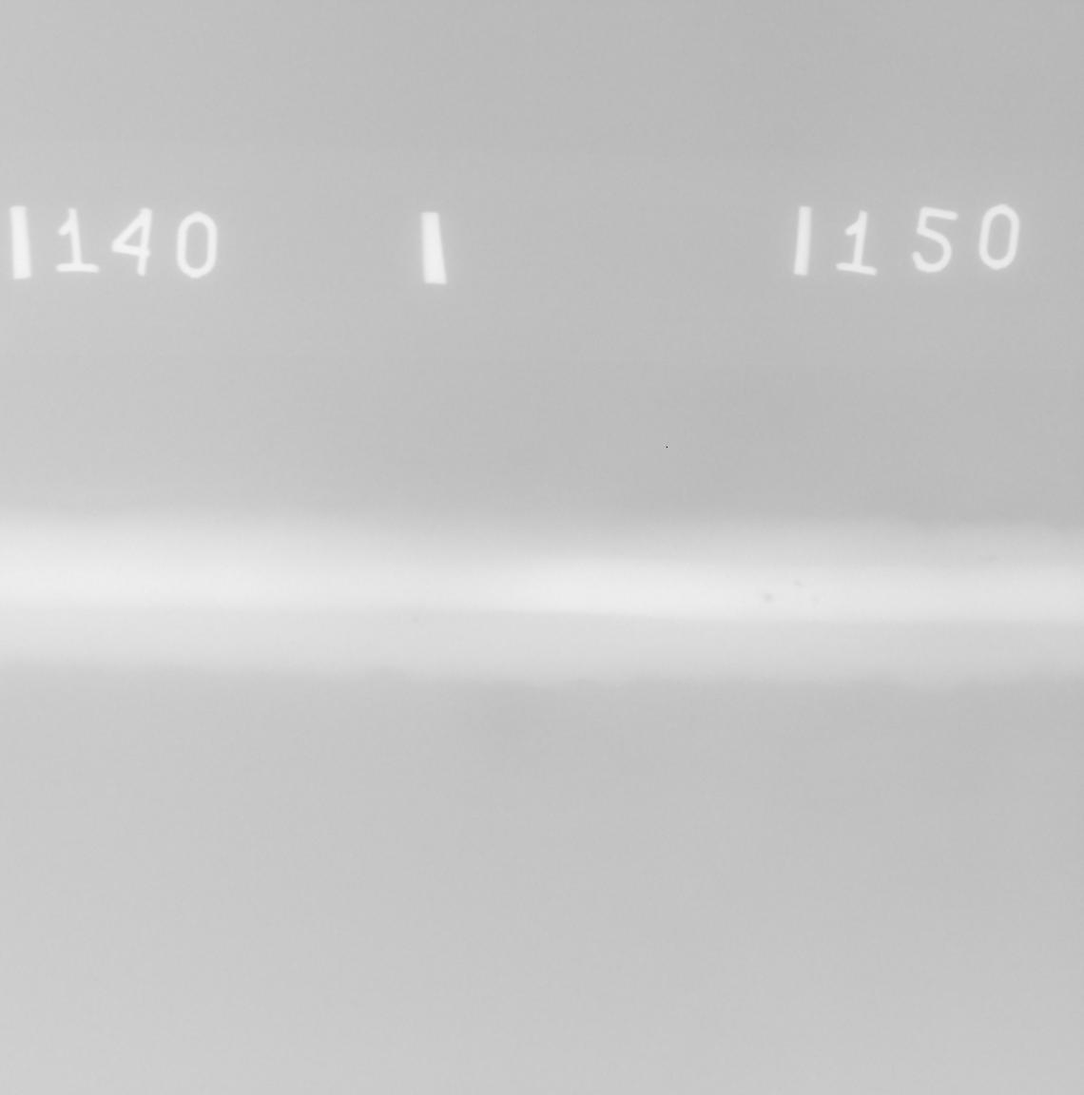Inclusion: (974, 554, 999, 560)
Pore/Porosity: (809, 594, 820, 604), (763, 594, 772, 602), (412, 616, 419, 623), (794, 582, 801, 586)
